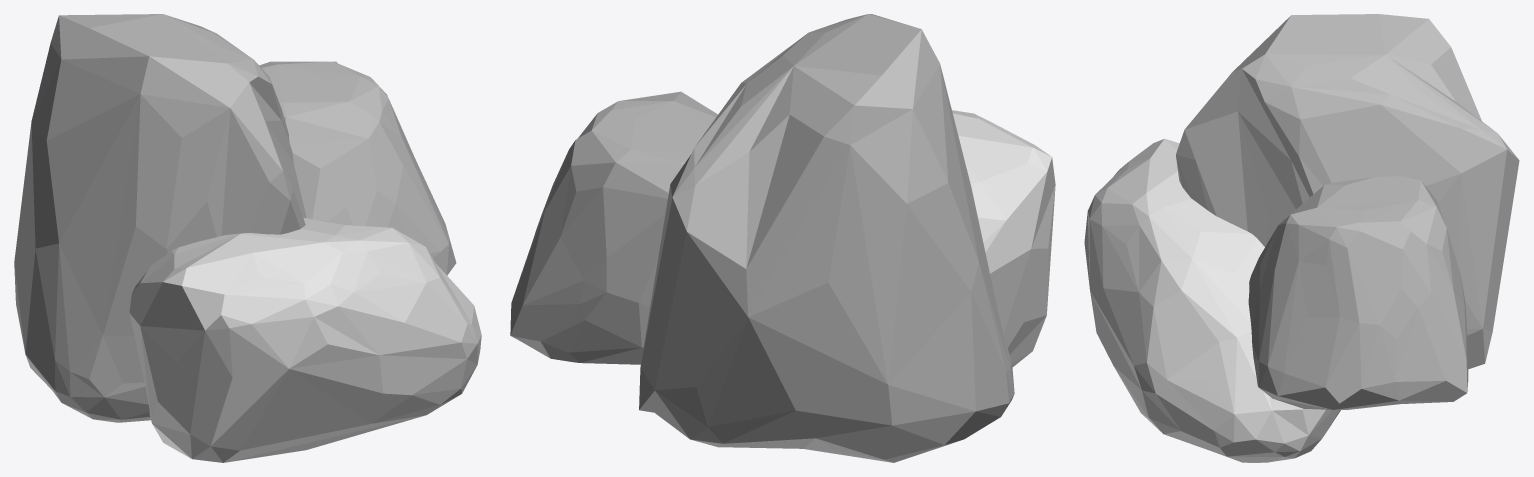
The model's file is Rock_041.glb.
3 views of the same model, side by side, from view 1: azimuth 30°, elevation 25°; view 2: azimuth 150°, elevation 25°; view 3: azimuth 270°, elevation 25° (orthographic). The views are drawn at different scales.
Visible parts, largest first — view 1: Rock_041; view 2: Rock_041; view 3: Rock_041.
Part boxes in pixels (box(x1,y1,x2,y2)): Rock_041: box(14, 14, 481, 462); Rock_041: box(510, 14, 1055, 462); Rock_041: box(1084, 14, 1519, 462).
Size of the model in its own units: 2.79 by 2.43 by 2.84.
1 material, 1 textured.
